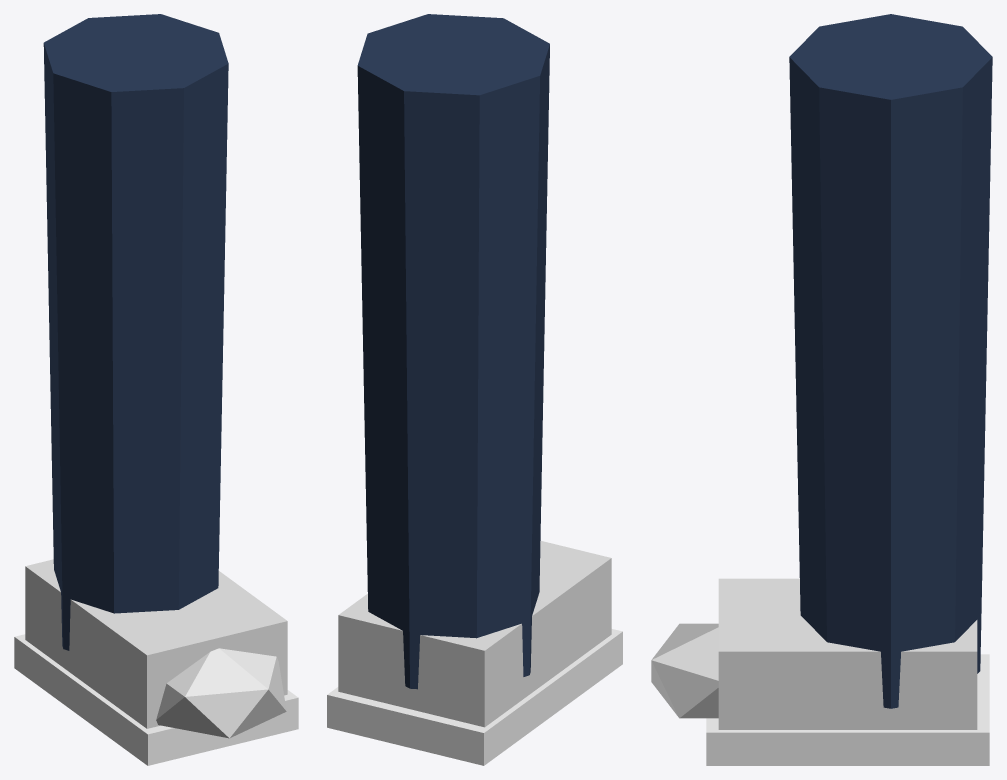
Rendered from insan_k0s_bacak.glb.
The picture shows the model from 3 angles, left to right: view 1: azimuth 30°, elevation 25°; view 2: azimuth 150°, elevation 25°; view 3: azimuth 270°, elevation 25°; orthographic projection. The views are drawn at different scales.
Parts seen in each view (by area): view 1: Cone; view 2: Cone; view 3: Cone.
Part boxes in pixels (left/top/right/bottom): Cone: left=14, top=14, right=298, bottom=765; Cone: left=327, top=14, right=622, bottom=765; Cone: left=651, top=14, right=992, bottom=765.
Size of the model in its own units: 0.033 by 0.12 by 0.0554.
